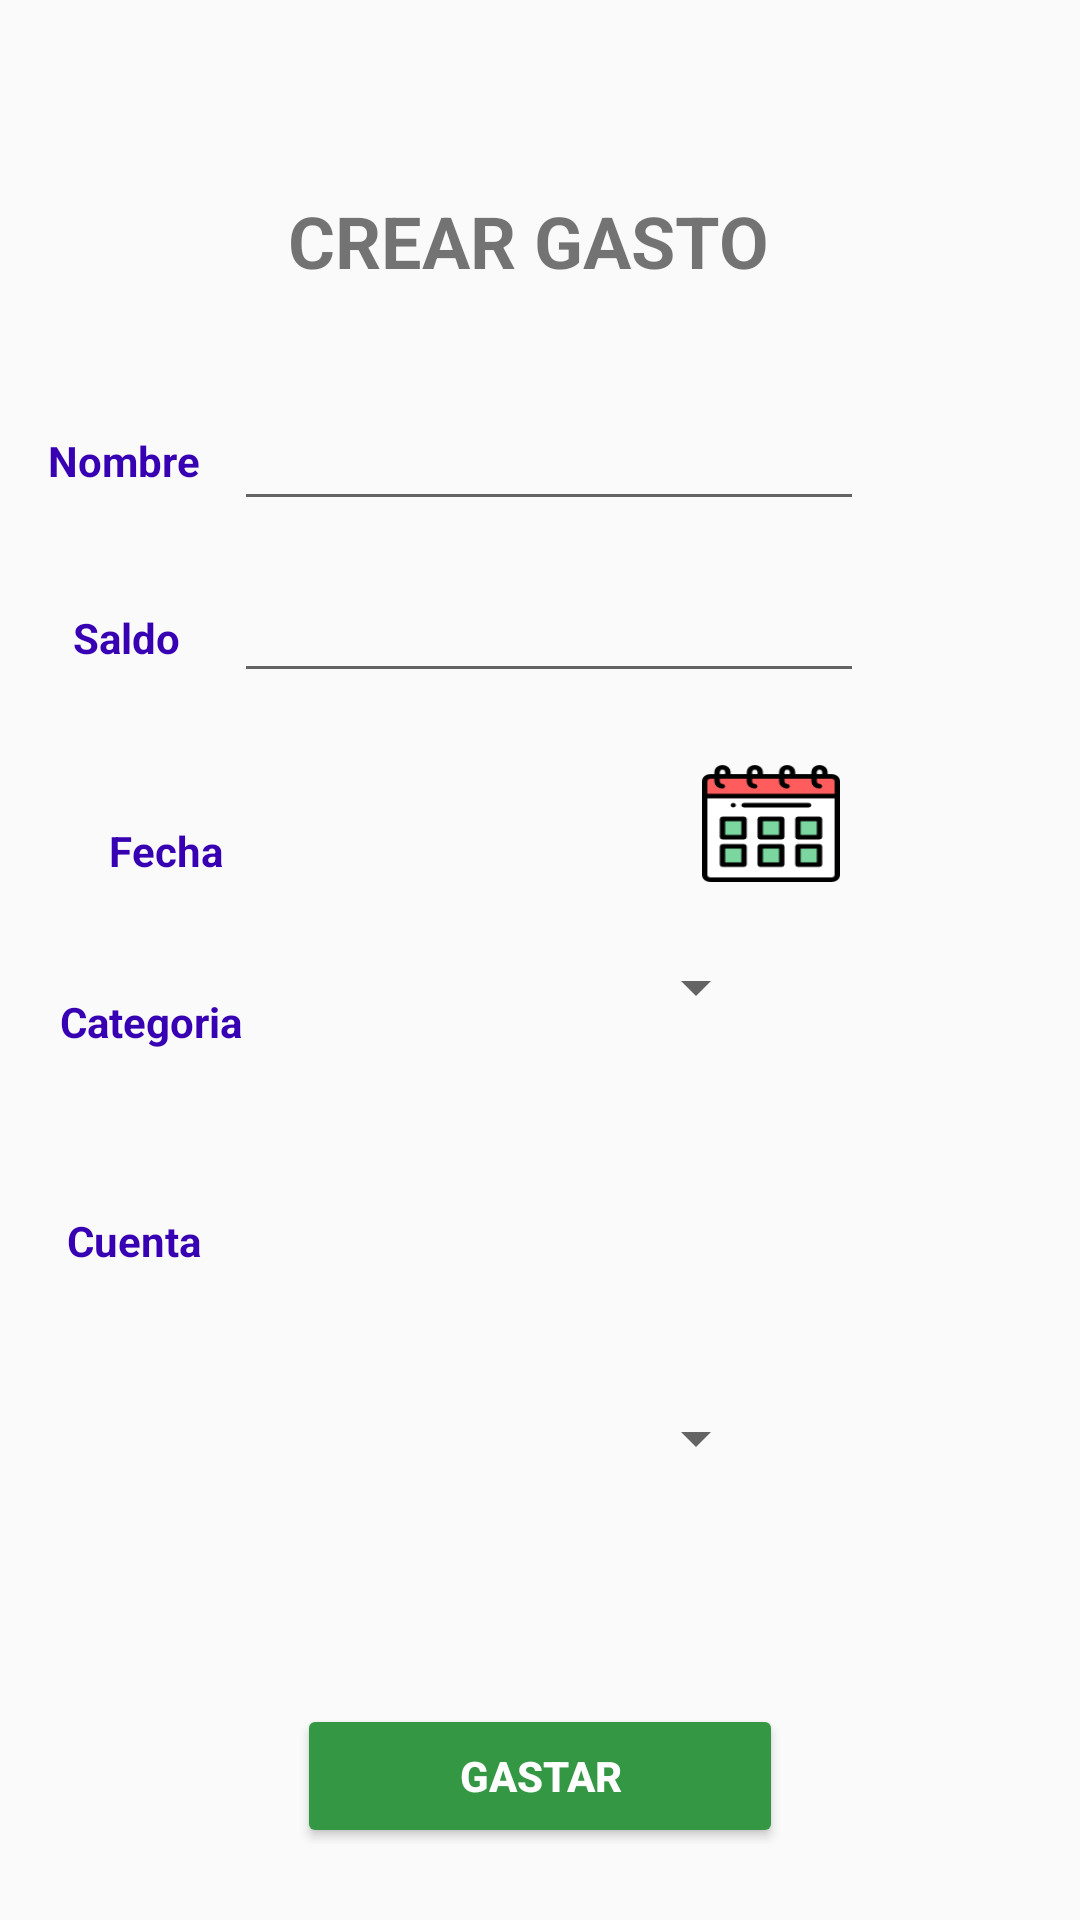

Locate icon controls on the screen. Image size 1080px×1920px, boxes as (x1, y1, x2, y2).
calendario: (702, 765, 840, 882)
